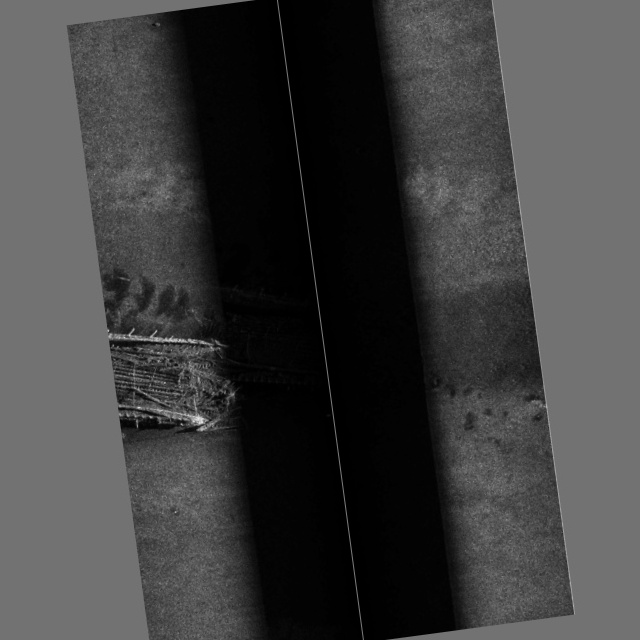Shipwreck: (100, 262, 249, 446)
